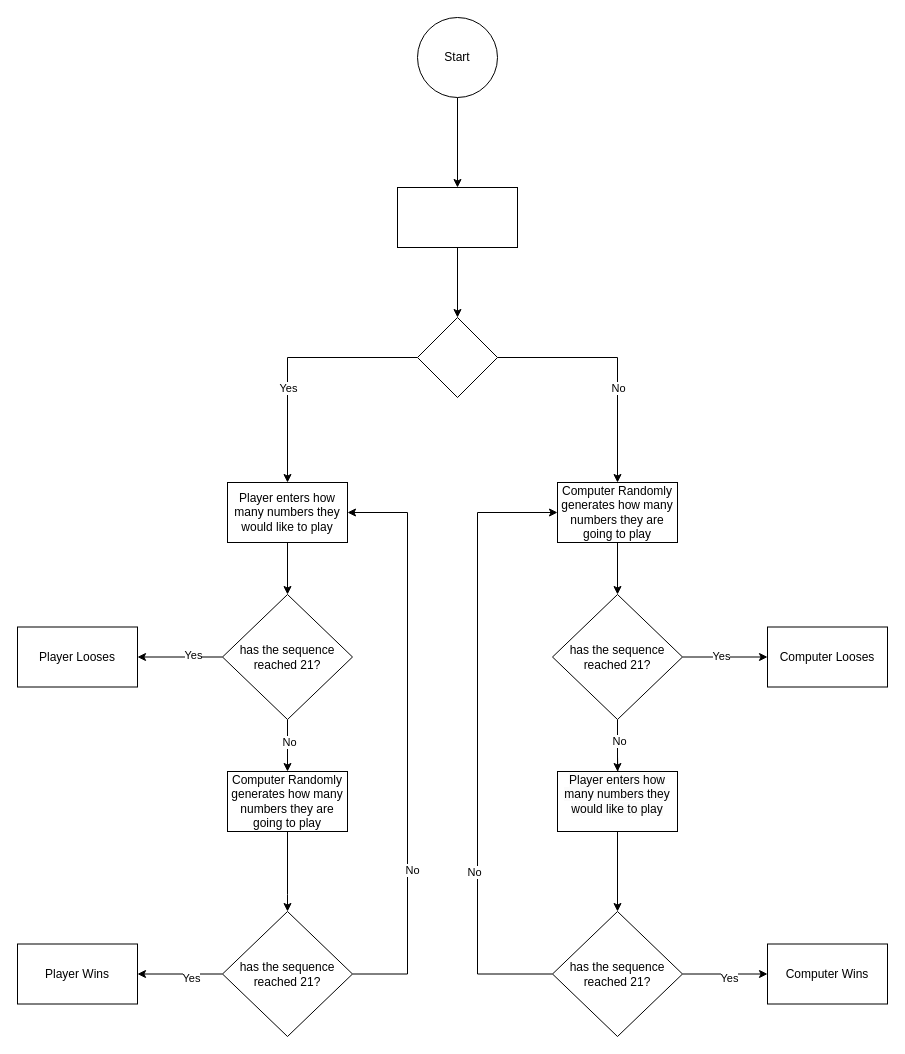
This 905x1054 diagram has some shape labels left out. The centre of each missing label's shape, as x and y in pixels:
"Is Player First?" belongs at (457,357).
"Player selects their turn position (First or Second)" belongs at (457,217).
